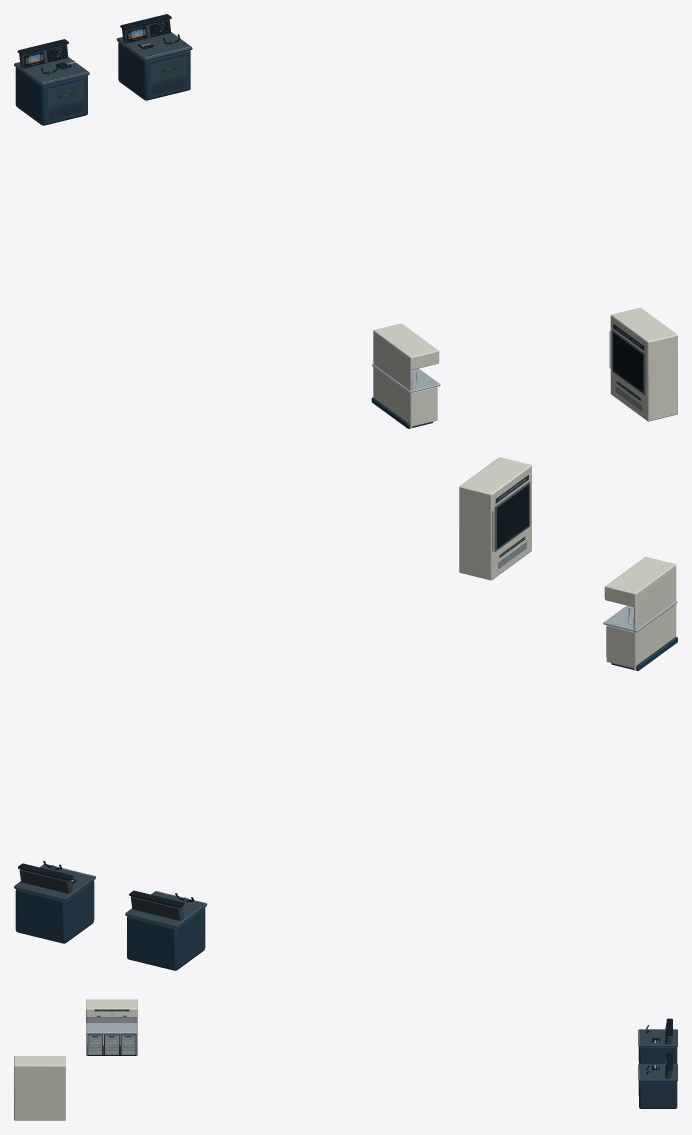
File: flight-equipment.glb
3 views of the same model, one above another, from view 1: azimuth 30°, elevation 25°; view 2: azimuth 150°, elevation 25°; view 3: azimuth 270°, elevation 25° (orthographic). The views are drawn at different scales.
Visible parts, largest first — view 1: Static / Ivory enamel, Static / Navy polymer, Static / Instrument panel, Static / Rubber seals, Static / Emissive instrument displays, Static / Brushed aluminum; view 2: Static / Ivory enamel, Static / Navy polymer, Static / Instrument panel, Static / Rubber seals, Static / Brushed aluminum; view 3: Static / Ivory enamel, Static / Navy polymer, Static / Brushed aluminum, Static / Instrument panel, Static / Rubber seals, Static / Porcelain / paper.
Boxes of the visible parts, bbox=[...] form: Static / Ivory enamel: bbox=[373, 307, 677, 428]; Static / Navy polymer: bbox=[15, 42, 641, 428]; Static / Instrument panel: bbox=[14, 19, 192, 108]; Static / Rubber seals: bbox=[17, 14, 642, 391]; Static / Emissive instrument displays: bbox=[25, 21, 169, 66]; Static / Brushed aluminum: bbox=[43, 43, 610, 393]; Static / Ivory enamel: bbox=[459, 457, 676, 670]; Static / Navy polymer: bbox=[15, 542, 677, 970]; Static / Instrument panel: bbox=[14, 864, 207, 927]; Static / Rubber seals: bbox=[18, 485, 528, 907]; Static / Brushed aluminum: bbox=[58, 511, 677, 902]; Static / Ivory enamel: bbox=[14, 999, 137, 1120]; Static / Navy polymer: bbox=[87, 1036, 677, 1108]; Static / Brushed aluminum: bbox=[86, 1017, 655, 1078]; Static / Instrument panel: bbox=[638, 1029, 677, 1095]; Static / Rubber seals: bbox=[87, 1018, 672, 1077]; Static / Porcelain / paper: bbox=[86, 1009, 136, 1017].
Size of the model in its own units: 7 by 2.46 by 26.8.
Materials: 11 (2 with a texture image).
